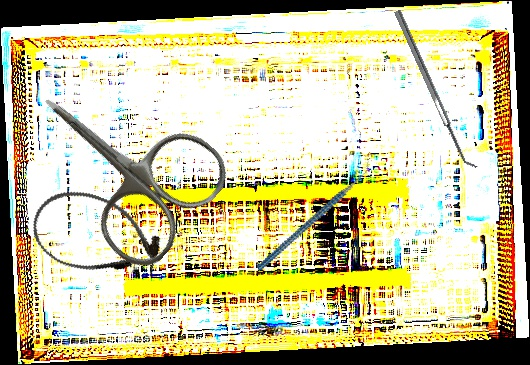Cannula: (22, 178, 171, 294)
Chopper: (234, 158, 393, 271)
Iris Scissors: (0, 44, 239, 279)
Spatula Surgical: (394, 6, 478, 173)
